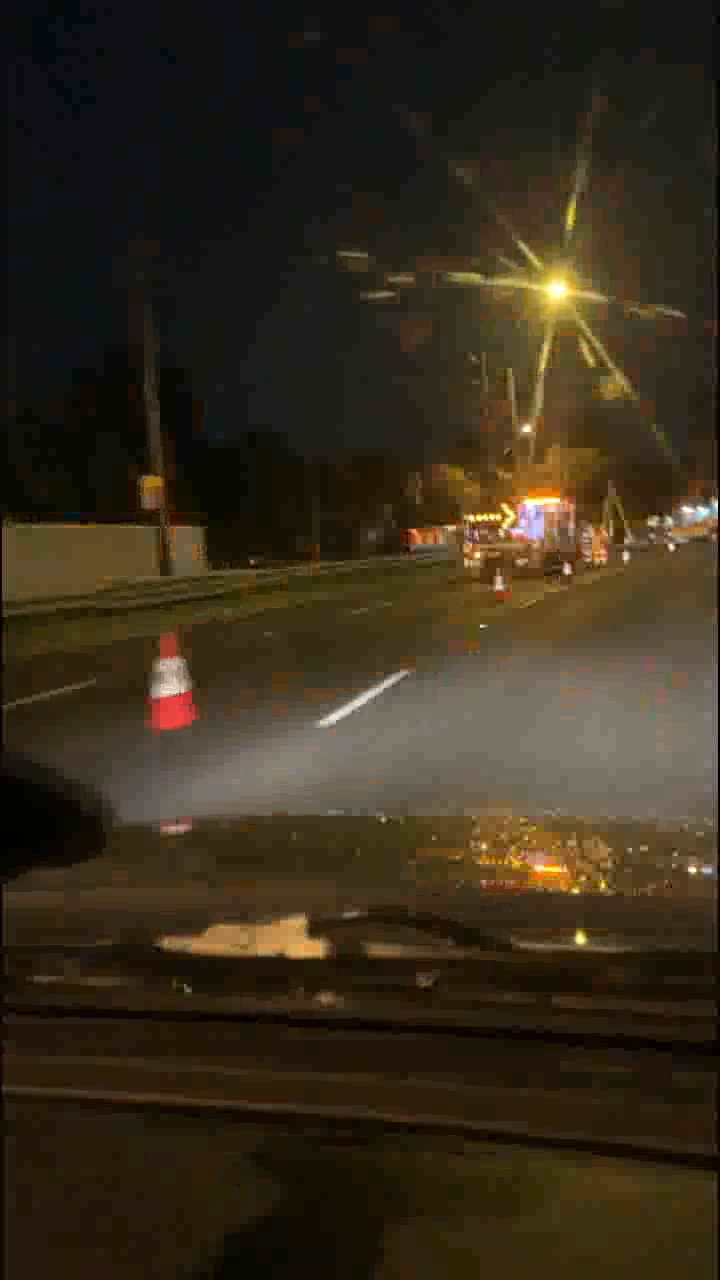road cone: (145, 632, 200, 734)
truck: (464, 509, 616, 588)
